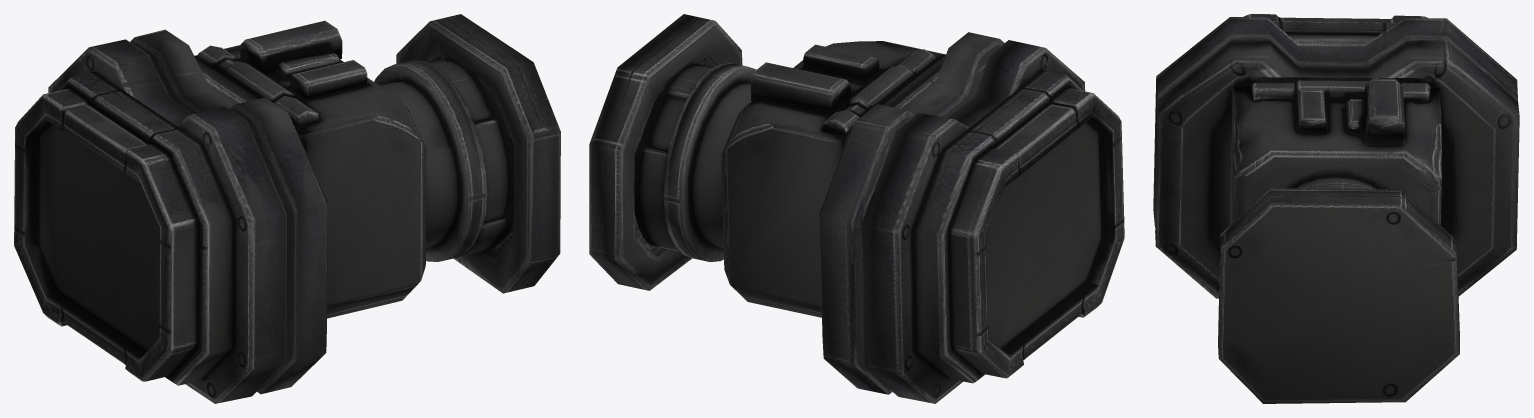
File: cold-iron-v2-panel-d-armored-pod.glb
3 renders of one model, left to right at view 1: azimuth 30°, elevation 25°; view 2: azimuth 150°, elevation 25°; view 3: azimuth 270°, elevation 25°, orthographic. The views are drawn at different scales.
Visible parts, largest first — view 1: tripo_node_574ac9dc-74ca-43b4-8bc4-c84727f7732e; view 2: tripo_node_574ac9dc-74ca-43b4-8bc4-c84727f7732e; view 3: tripo_node_574ac9dc-74ca-43b4-8bc4-c84727f7732e.
Boxes of the visible parts, box(x1,y1,x2,y2) form: tripo_node_574ac9dc-74ca-43b4-8bc4-c84727f7732e: box(14, 14, 560, 403); tripo_node_574ac9dc-74ca-43b4-8bc4-c84727f7732e: box(589, 14, 1124, 403); tripo_node_574ac9dc-74ca-43b4-8bc4-c84727f7732e: box(1153, 14, 1519, 403).
Size of the model in its own units: 1.01 by 0.6443 by 0.8484.
1 material, 1 textured.
